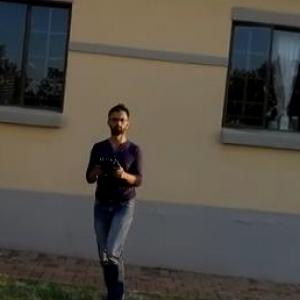follow: (78, 98, 148, 299)
